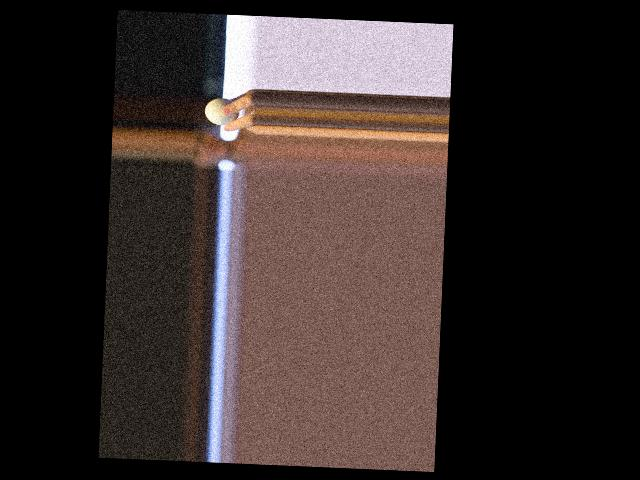egg: (204, 98, 240, 126)
